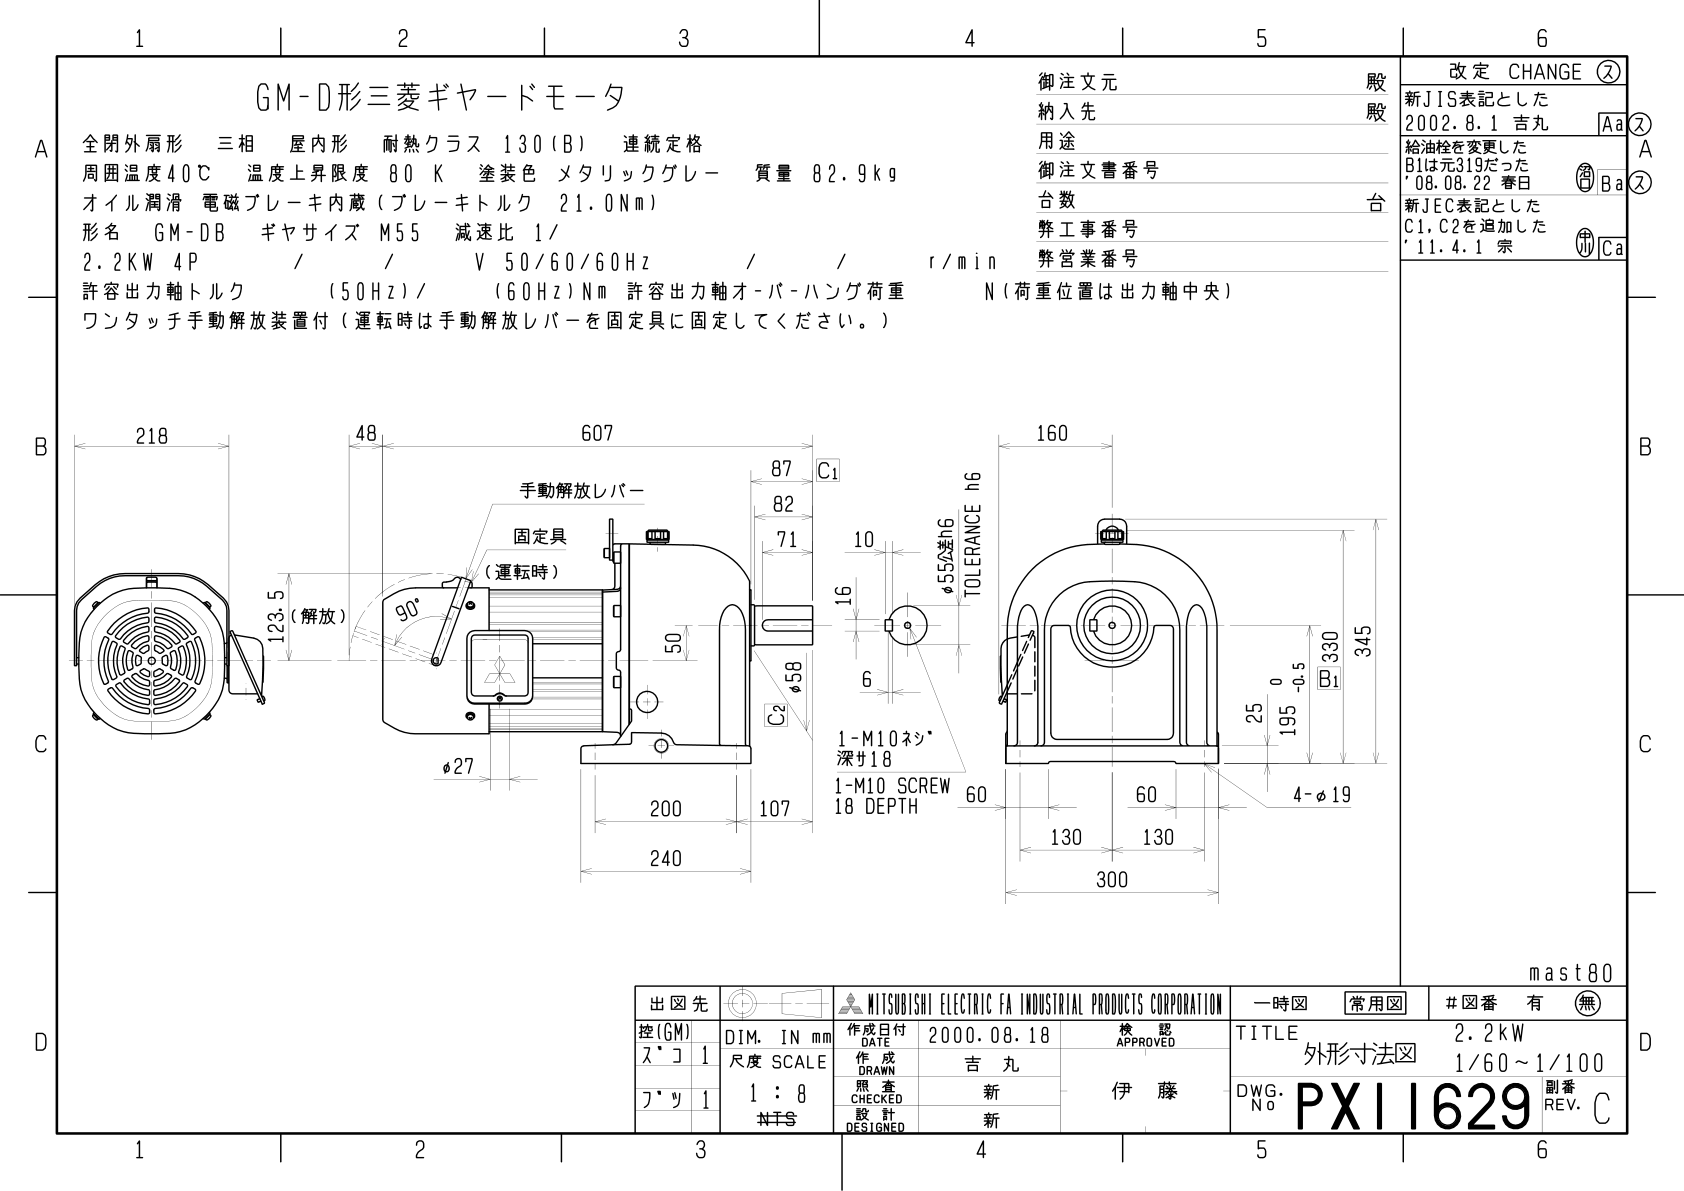GM_D_手動解放ブレーキ＿三相_脚: (58, 378, 1389, 927)
